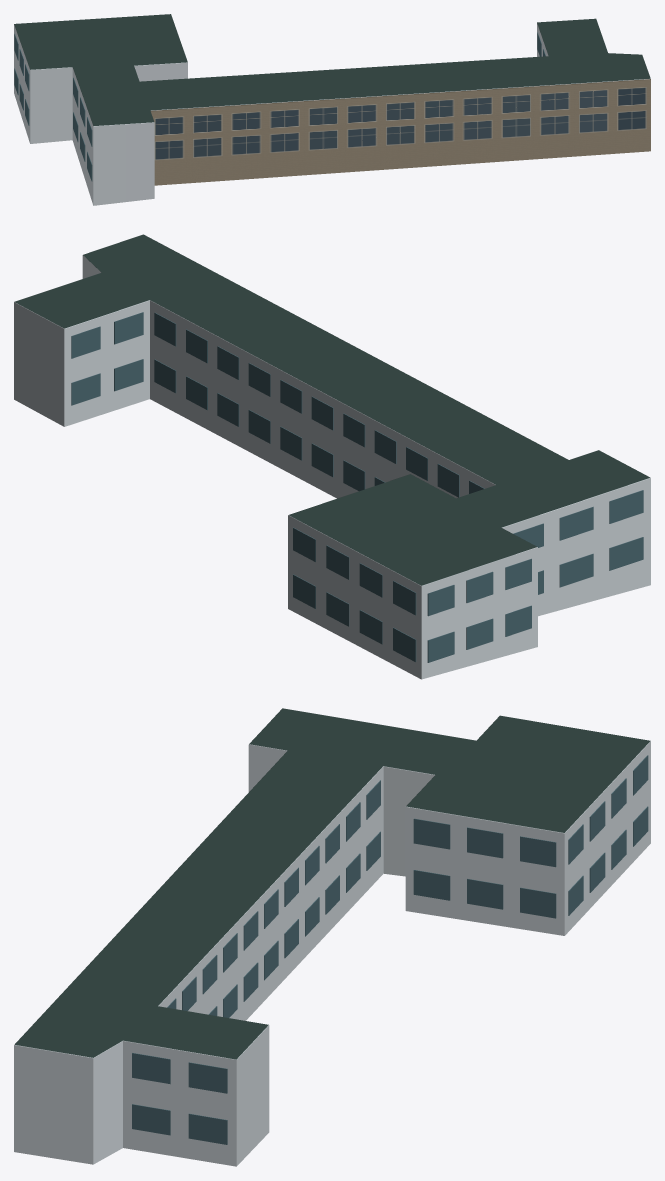
Rendered from intact.glb.
The picture shows the model from 3 angles, top to bottom: view 1: azimuth 30°, elevation 25°; view 2: azimuth 150°, elevation 25°; view 3: azimuth 270°, elevation 25°; orthographic projection. The views are drawn at different scales.
Parts seen in each view (by area): view 1: SM_educgrad_Intact_00, SM_educgrad_Intact_01; view 2: SM_educgrad_Intact_00, SM_educgrad_Intact_01; view 3: SM_educgrad_Intact_00, SM_educgrad_Intact_01.
Boxes of the visible parts, <box> form: SM_educgrad_Intact_00: <box>14,14,650,205</box>; SM_educgrad_Intact_01: <box>14,32,545,181</box>; SM_educgrad_Intact_00: <box>14,234,650,679</box>; SM_educgrad_Intact_01: <box>71,312,643,662</box>; SM_educgrad_Intact_00: <box>14,708,650,1166</box>; SM_educgrad_Intact_01: <box>132,755,648,1144</box>.
Bounding box in the file's own units: 2.2 × 0.3441 × 1.68.
Materials: 4 (1 with a texture image).
